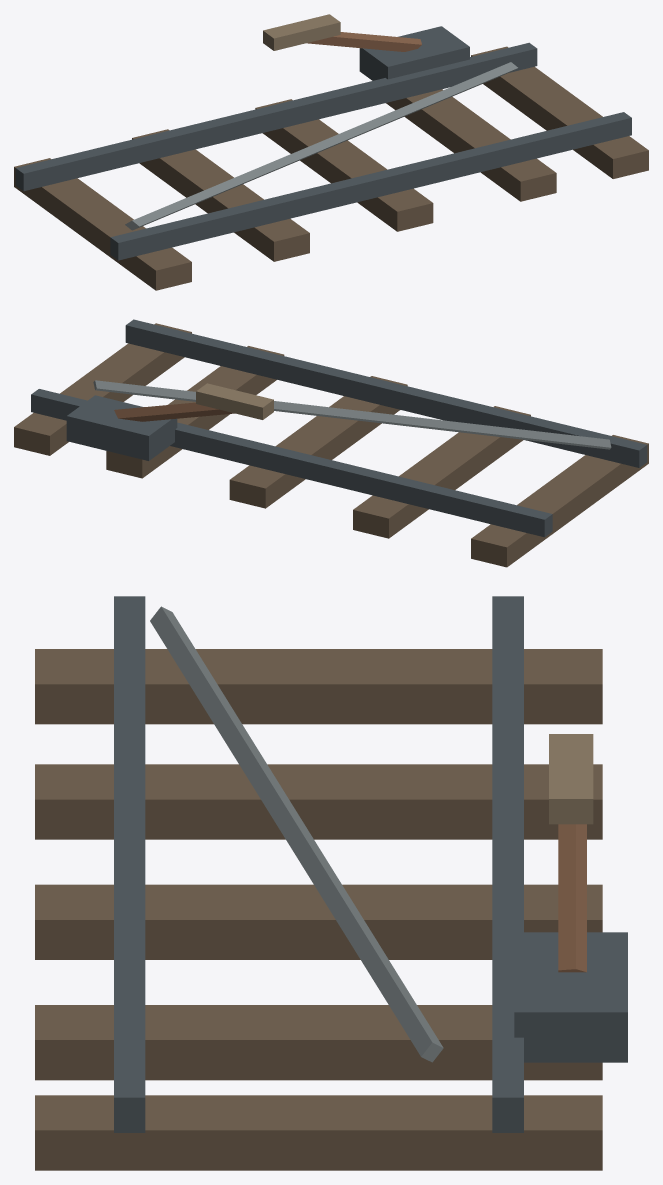
The model's file is track_switch.glb.
3 views of the same model, one above another, from view 1: azimuth 30°, elevation 25°; view 2: azimuth 150°, elevation 25°; view 3: azimuth 270°, elevation 25° (orthographic). The views are drawn at different scales.
Parts seen in each view (by area): view 1: track_switch; view 2: track_switch; view 3: track_switch.
Part boxes in pixels (bbox=[...]): track_switch: bbox=[14, 14, 648, 290]; track_switch: bbox=[14, 319, 648, 567]; track_switch: bbox=[35, 596, 627, 1170].
Size of the model in its own units: 1.92 by 0.35 by 0.96.
